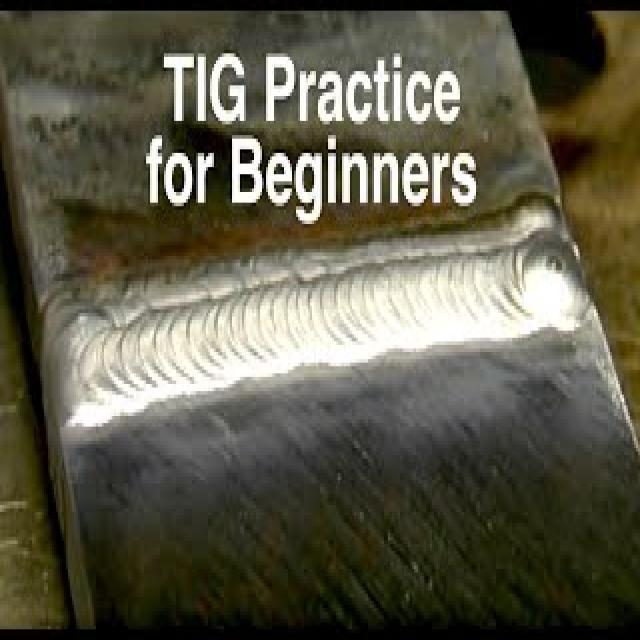Good Welding: (44, 202, 598, 429)
